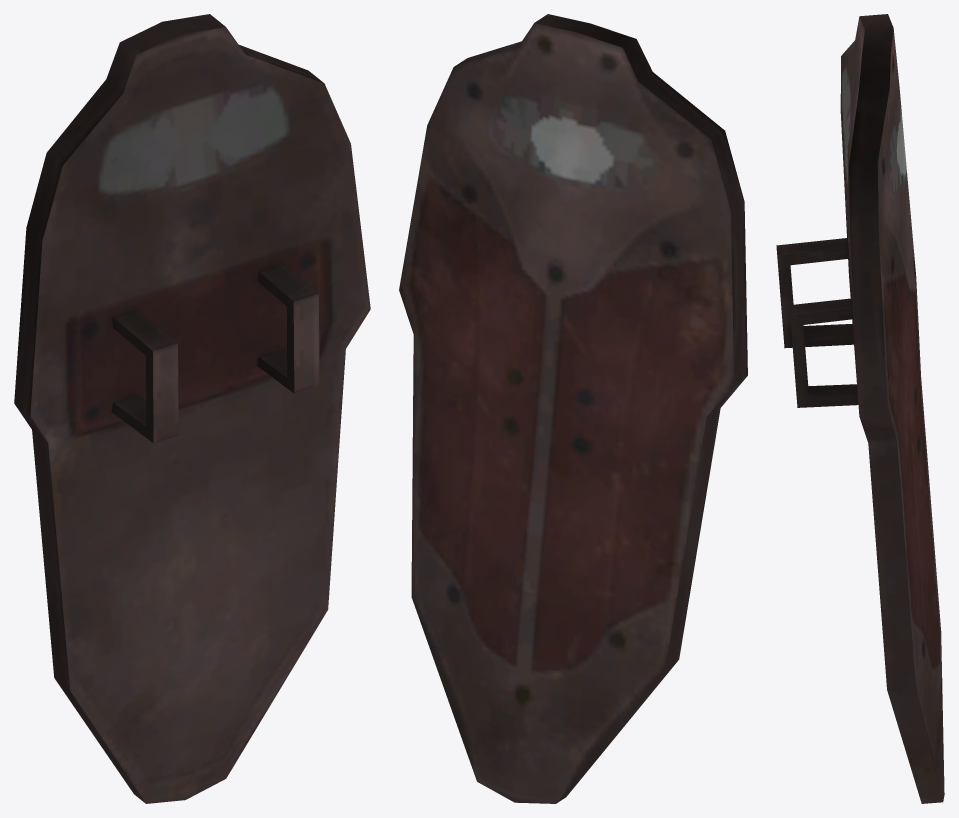
The model's file is int_merc_shield.glb.
3 renders of one model, left to right at view 1: azimuth 30°, elevation 25°; view 2: azimuth 150°, elevation 25°; view 3: azimuth 270°, elevation 25°, orthographic. The views are drawn at different scales.
Parts seen in each view (by area): view 1: weapons/int_merc_shield_0; view 2: weapons/int_merc_shield_0; view 3: weapons/int_merc_shield_0.
Part boxes in pixels (bbox=[...]): weapons/int_merc_shield_0: bbox=[14, 14, 370, 803]; weapons/int_merc_shield_0: bbox=[399, 14, 747, 803]; weapons/int_merc_shield_0: bbox=[776, 14, 944, 803].
Bounding box in the file's own units: 0.9087 × 2 × 0.4057.
Materials: 1 (1 with a texture image).
